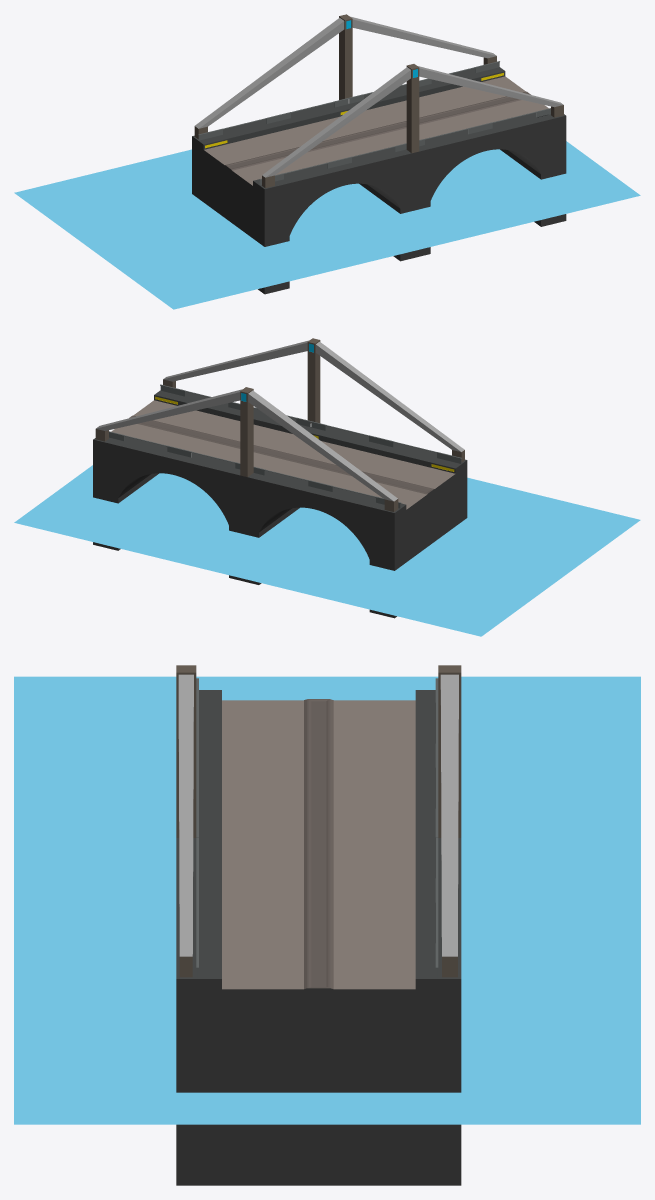
File: bridge.dae
3 renders of one model, top to bottom at view 1: azimuth 30°, elevation 25°; view 2: azimuth 150°, elevation 25°; view 3: azimuth 270°, elevation 25°, orthographic. The views are drawn at different scales.
Visible parts, largest first — view 1: SketchUp (×13), water_tex; view 2: water_tex, SketchUp (×13); view 3: water_tex, SketchUp (×11).
Part boxes in pixels (x1=…): SketchUp (×13): x1=192, y1=14, x2=566, y2=294; water_tex: x1=14, y1=141, x2=640, y2=309; water_tex: x1=14, y1=465, x2=640, y2=636; SketchUp (×13): x1=93, y1=338, x2=467, y2=618; water_tex: x1=14, y1=676, x2=640, y2=1124; SketchUp (×11): x1=176, y1=665, x2=461, y2=1185.
Bounding box in the file's own units: 3661 × 2165 × 1417.
